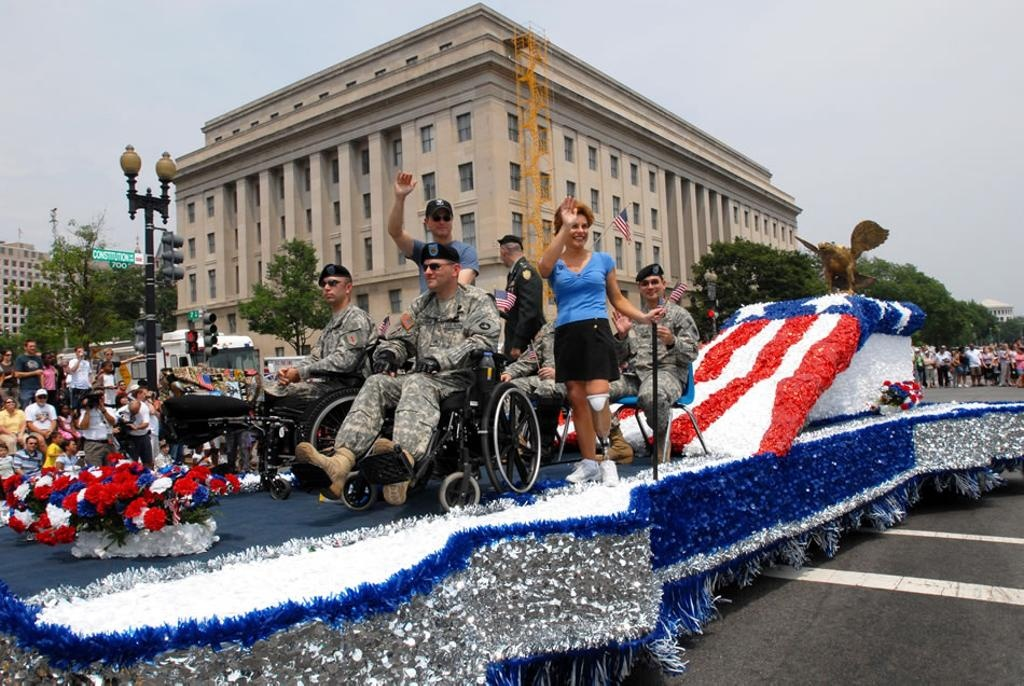human_face: (420, 259, 450, 289), (428, 210, 452, 238), (565, 216, 587, 246), (320, 278, 344, 304), (639, 278, 663, 298), (498, 246, 510, 260), (88, 392, 100, 406), (26, 340, 36, 354), (129, 402, 139, 416), (27, 439, 37, 451), (37, 394, 47, 406), (104, 350, 114, 360), (68, 440, 76, 452), (5, 398, 15, 407), (76, 348, 84, 358), (104, 360, 112, 370), (136, 390, 144, 400), (4, 350, 12, 360), (76, 455, 84, 464), (61, 406, 69, 414), (120, 395, 128, 403), (119, 381, 125, 391), (45, 354, 51, 362), (55, 434, 61, 442), (196, 444, 202, 452), (146, 388, 152, 395), (163, 444, 169, 451), (50, 352, 54, 360)
